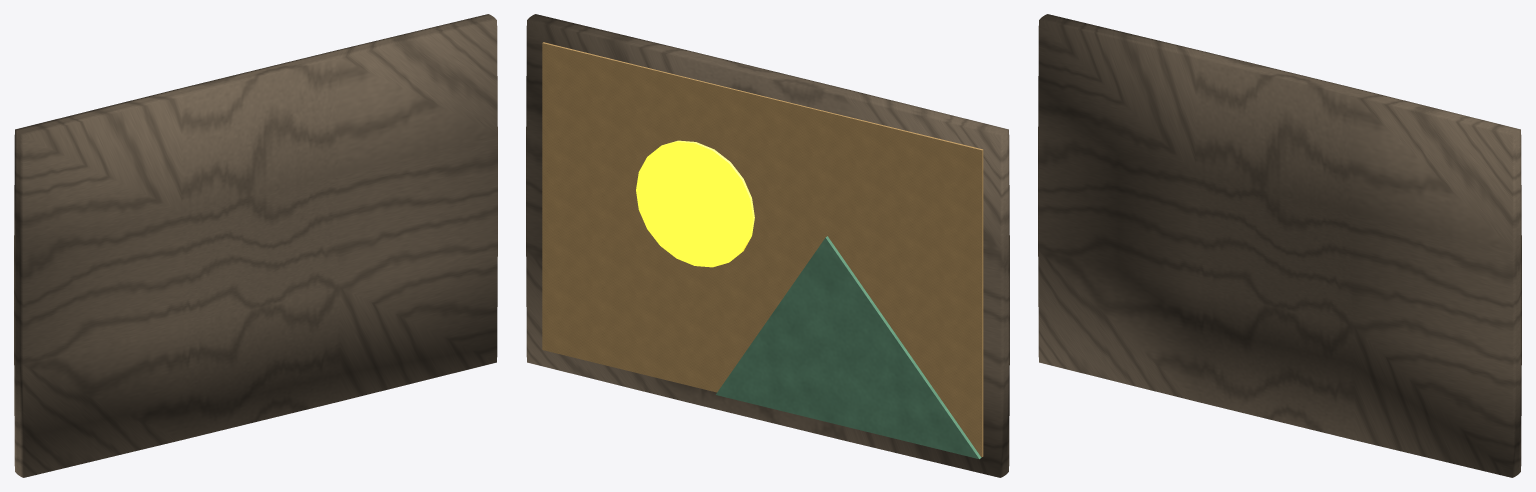
The model's file is painting_sun.glb.
3 views of the same model, side by side, from view 1: azimuth 30°, elevation 25°; view 2: azimuth 150°, elevation 25°; view 3: azimuth 330°, elevation 25° (orthographic).
Visible parts, largest first — view 1: painting_sun_body; view 2: painting_sun_body; view 3: painting_sun_body.
Part boxes in pixels (left/top/right/bottom): painting_sun_body: left=14, top=14, right=497, bottom=477; painting_sun_body: left=526, top=14, right=1009, bottom=477; painting_sun_body: left=1038, top=14, right=1521, bottom=477.
Size of the model in its own units: 1.3 by 0.9 by 0.065.
Materials: 4 (3 with a texture image).
